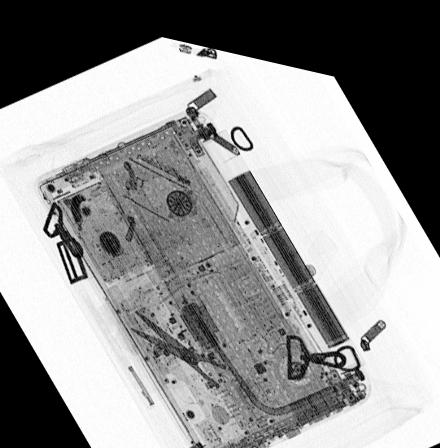Scissors: (123, 297, 232, 382)
